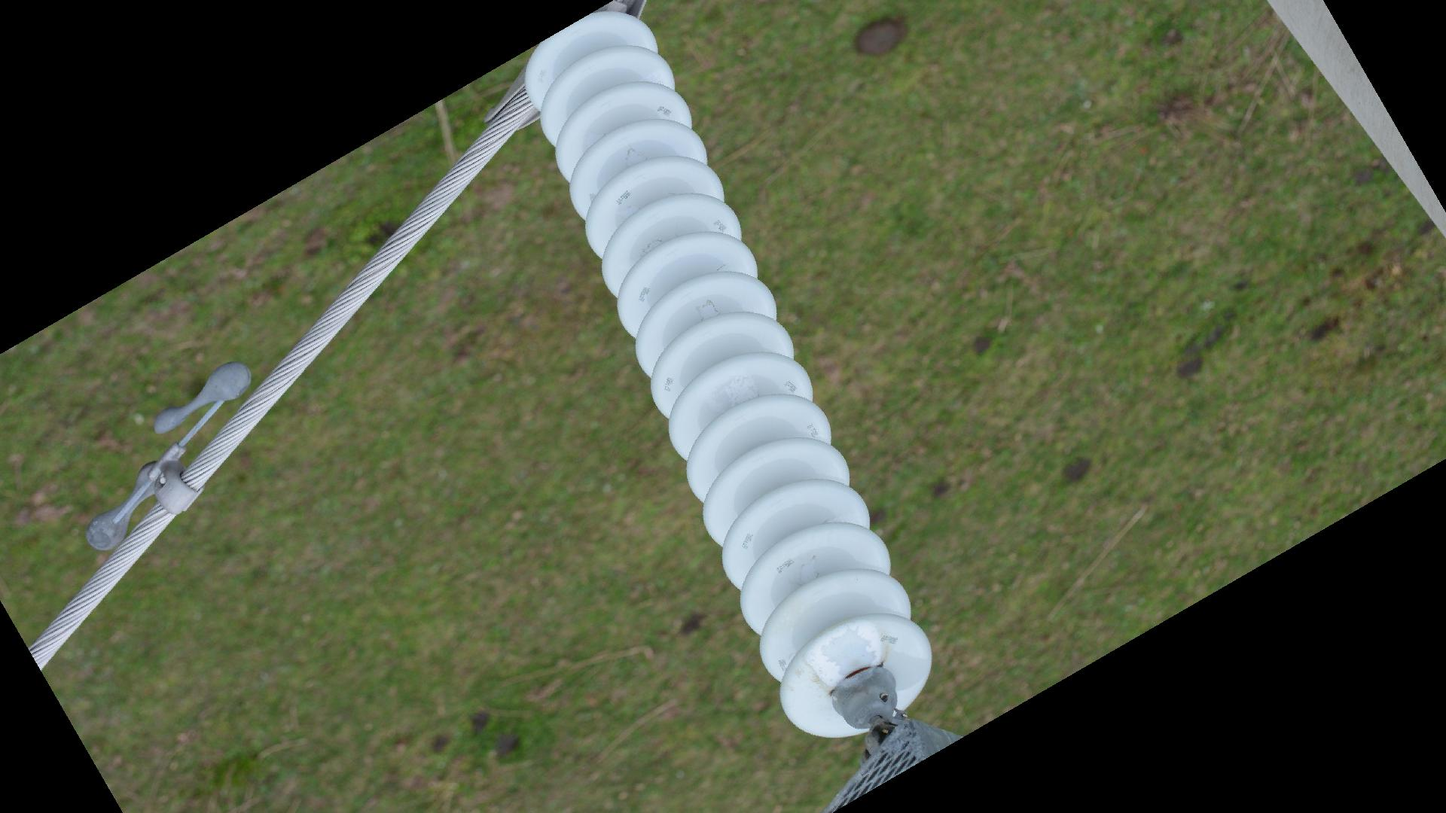insulator: (520, 1, 939, 750)
insulator_flashover: (819, 626, 880, 678)
